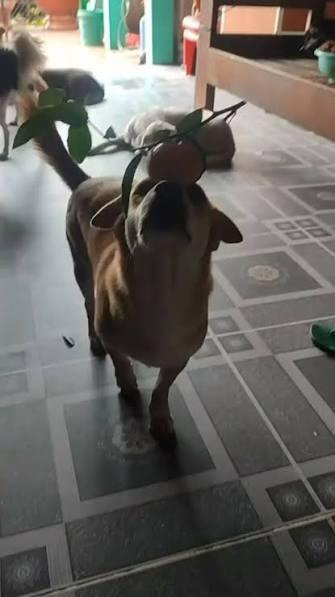adult_dog: (15, 101, 245, 445), (118, 103, 238, 176), (0, 0, 53, 134), (39, 68, 108, 110)
